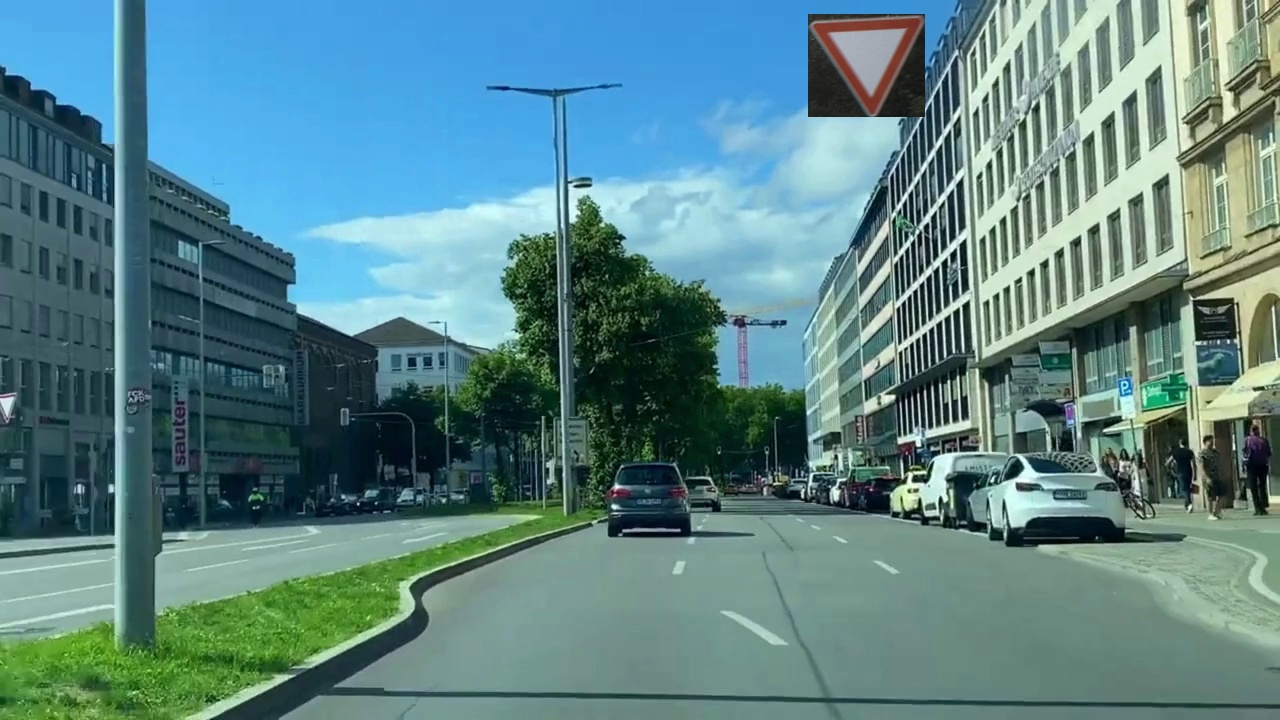Yield: (808, 14, 925, 117)
